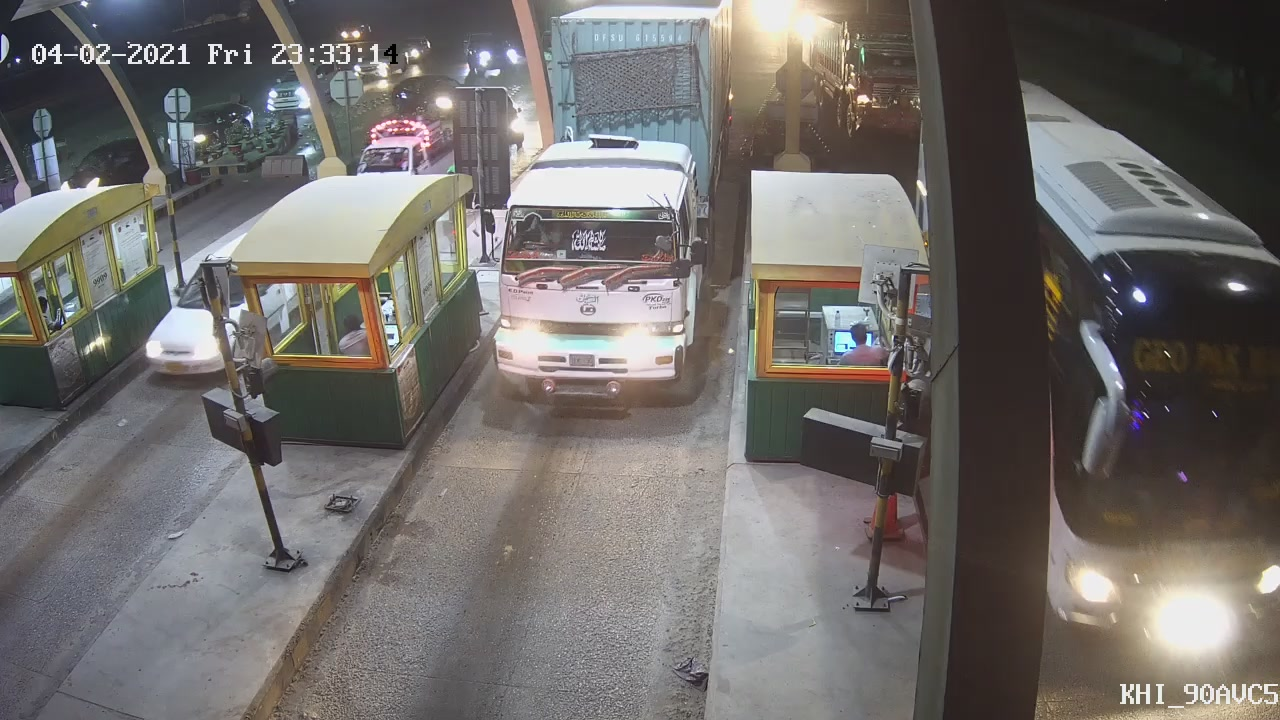F6: (482, 1, 735, 411)
